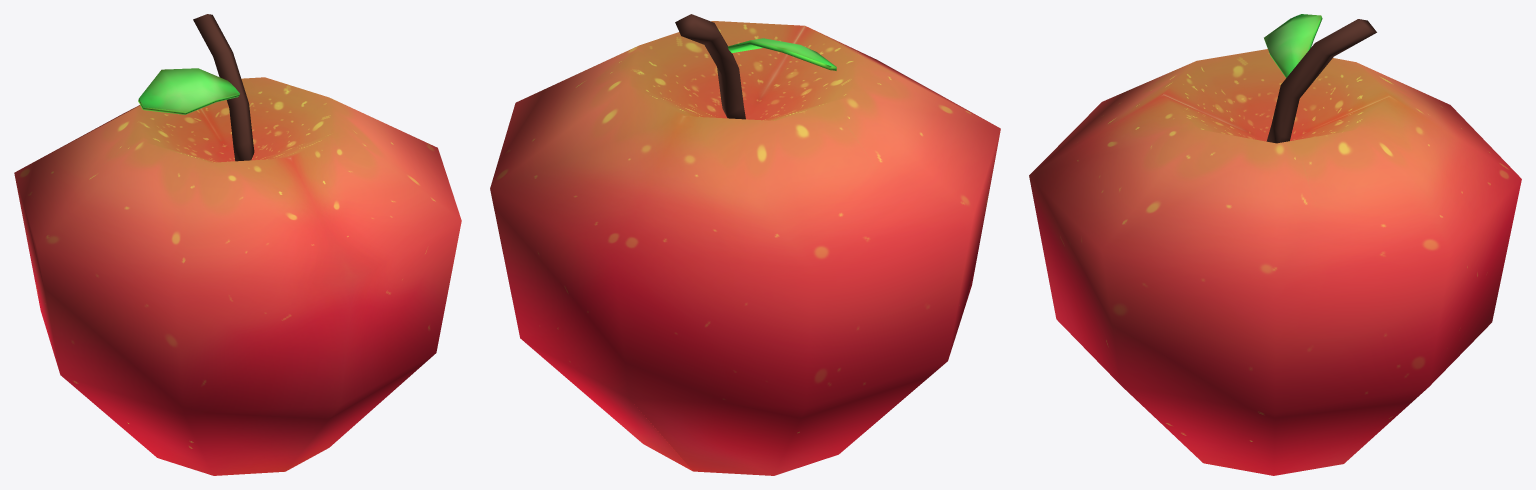
Rendered from apple.fbx.
The picture shows the model from 3 angles, left to right: view 1: azimuth 30°, elevation 25°; view 2: azimuth 150°, elevation 25°; view 3: azimuth 270°, elevation 25°; orthographic projection. The views are drawn at different scales.
Parts seen in each view (by area): view 1: apple; view 2: apple; view 3: apple.
Boxes of the visible parts, <box> form: apple: <box>14,14,461,475</box>; apple: <box>490,14,1000,475</box>; apple: <box>1029,14,1521,475</box>.
Bounding box in the file's own units: 1.46 × 1.37 × 1.46.
